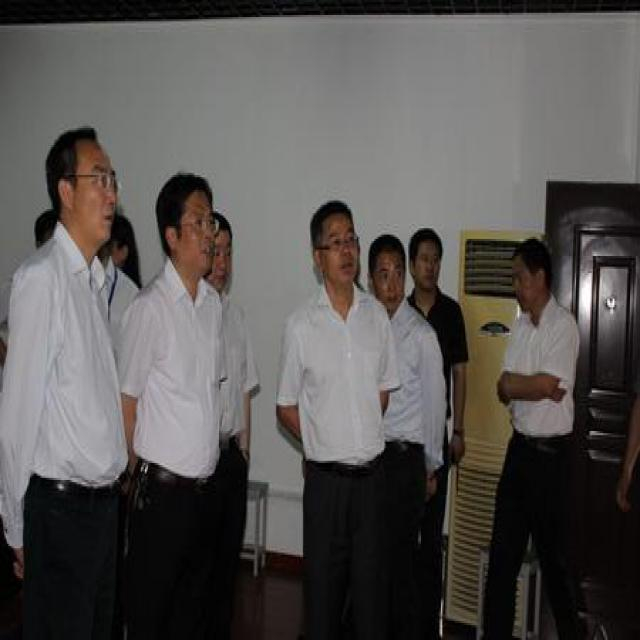head: (44, 121, 121, 249), (155, 166, 217, 281), (304, 195, 361, 293), (509, 234, 556, 313), (365, 227, 409, 310), (407, 221, 448, 298), (203, 208, 233, 287)
person: (10, 123, 125, 626), (269, 199, 397, 629), (130, 170, 236, 624), (487, 229, 593, 638), (369, 234, 453, 624)
